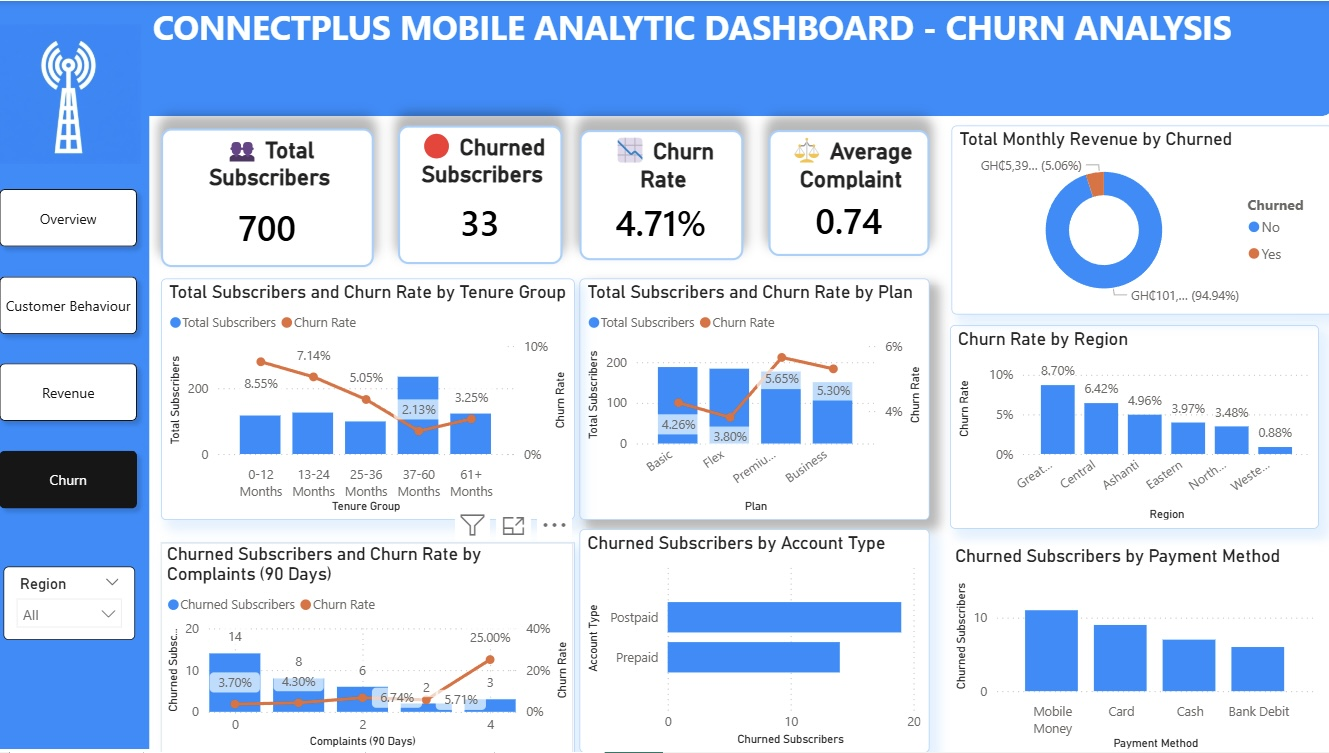

What the dashboard file says about the page in this screenshot:
{"tool":"powerbi","page":{"name":"Churn","canvas":[1280,720],"ordinal":3},"visuals":[{"type":"lineClusteredColumnComboChart","fields":{"Category":["Plans.Plan"],"Y":["Regions.Total Subscribers"],"Y2":["Regions.Churn Rate"]},"box":[561.8,266.5,333.1,230.2],"z":0},{"type":"shape","box":[0,0,1278.8,112.5],"z":1000},{"type":"textbox","box":[150,0,1055,55],"z":2000},{"type":"cardVisual","title":"👥 Total Subscribers","fields":{"Data":["Regions.Total Subscribers"]},"box":[163.5,124.2,202.9,131.7],"z":3000},{"type":"cardVisual","title":"🔴 Churned Subscribers","fields":{"Data":["Regions.Churned Subscribers"]},"box":[388.3,121.7,156.7,131.7],"z":4000},{"type":"cardVisual","title":"📉 Churn Rate","fields":{"Data":["Regions.Churn Rate"]},"box":[561.8,125.7,156,124.2],"z":5000},{"type":"cardVisual","title":"⚖️ Average Complaint","fields":{"Data":["Regions.Average Complaints"]},"box":[741.7,125,153.3,120],"z":6000},{"type":"lineClusteredColumnComboChart","fields":{"Category":["Subscribers_RAW.Tenure Group"],"Y":["Regions.Total Subscribers"],"Y2":["Regions.Churn Rate"]},"box":[163.5,266.5,393.7,230.2],"z":7000},{"type":"clusteredColumnChart","fields":{"Category":["Regions.Region"],"Y":["Regions.Churn Rate"]},"box":[914.6,311.9,351.3,193.8],"z":8000},{"type":"lineClusteredColumnComboChart","fields":{"Category":["Subscribers_RAW.Complaints (90 Days)"],"Y2":["Regions.Churn Rate"],"Y":["Regions.Churned Subscribers"]},"box":[162.5,518.8,393.8,201.2],"z":9000},{"type":"barChart","fields":{"Category":["Subscribers_RAW.Account Type"],"Y":["Regions.Churned Subscribers"]},"box":[561.8,505.7,333.1,213.5],"z":10000},{"type":"donutChart","fields":{"Category":["Subscribers_RAW.Churned"],"Y":["Regions.Total Monthly Revenue"]},"box":[915,121.7,363.3,180],"z":11000},{"type":"clusteredColumnChart","fields":{"Category":["Subscribers_RAW.Payment Method"],"Y":["Regions.Churned Subscribers"]},"box":[914.6,520.9,351.3,198.4],"z":12000},{"type":"shape","box":[0,98.3,151.7,616.7],"z":13000},{"type":"pageNavigator","box":[0,172.6,149.9,324],"z":14000},{"type":"image","box":[6.1,12.1,137.8,160.5],"z":15000},{"type":"slicer","fields":{"Values":["Regions.Region"]},"box":[13.3,541.7,125,70],"z":16000}]}

Visuals, with their boxes in screenshot pixels (x1, y1, x2, y2), scaled from the page's 1280x720 canvas onto the 1329x753 screenshot:
lineClusteredColumnComboChart - Plans.Plan x Regions.Total Subscribers: 583, 279, 929, 519
shape: 0, 0, 1328, 118
textbox: 156, 0, 1251, 58
"👥 Total Subscribers" cardVisual: 170, 130, 380, 268
"🔴 Churned Subscribers" cardVisual: 403, 127, 566, 265
"📉 Churn Rate" cardVisual: 583, 131, 745, 261
"⚖️ Average Complaint" cardVisual: 770, 131, 929, 256
lineClusteredColumnComboChart - Subscribers_RAW.Tenure Group x Regions.Total Subscribers: 170, 279, 579, 519
clusteredColumnChart - Regions.Region x Regions.Churn Rate: 950, 326, 1314, 529
lineClusteredColumnComboChart - Subscribers_RAW.Complaints (90 Days) x Regions.Churn Rate: 169, 543, 578, 752
barChart - Subscribers_RAW.Account Type x Regions.Churned Subscribers: 583, 529, 929, 752
donutChart - Subscribers_RAW.Churned x Regions.Total Monthly Revenue: 950, 127, 1327, 316
clusteredColumnChart - Subscribers_RAW.Payment Method x Regions.Churned Subscribers: 950, 545, 1314, 752
shape: 0, 103, 158, 748
pageNavigator: 0, 181, 156, 519
image: 6, 13, 149, 181
slicer - Regions.Region: 14, 567, 144, 640
